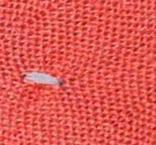hole: (20, 69, 65, 90)
